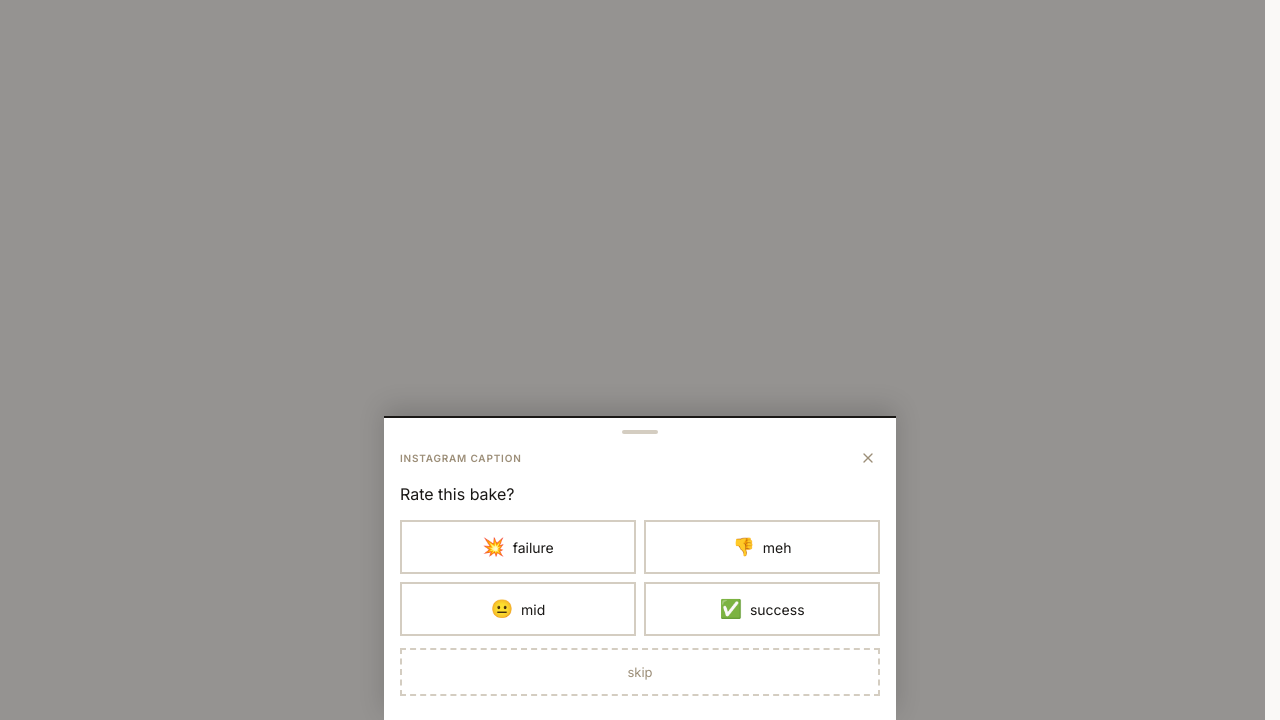
it: ShareBottomSheet › skip advances to preview without outcome
Click the button with test id "share-skip": [640, 672] box [400, 648, 880, 696]
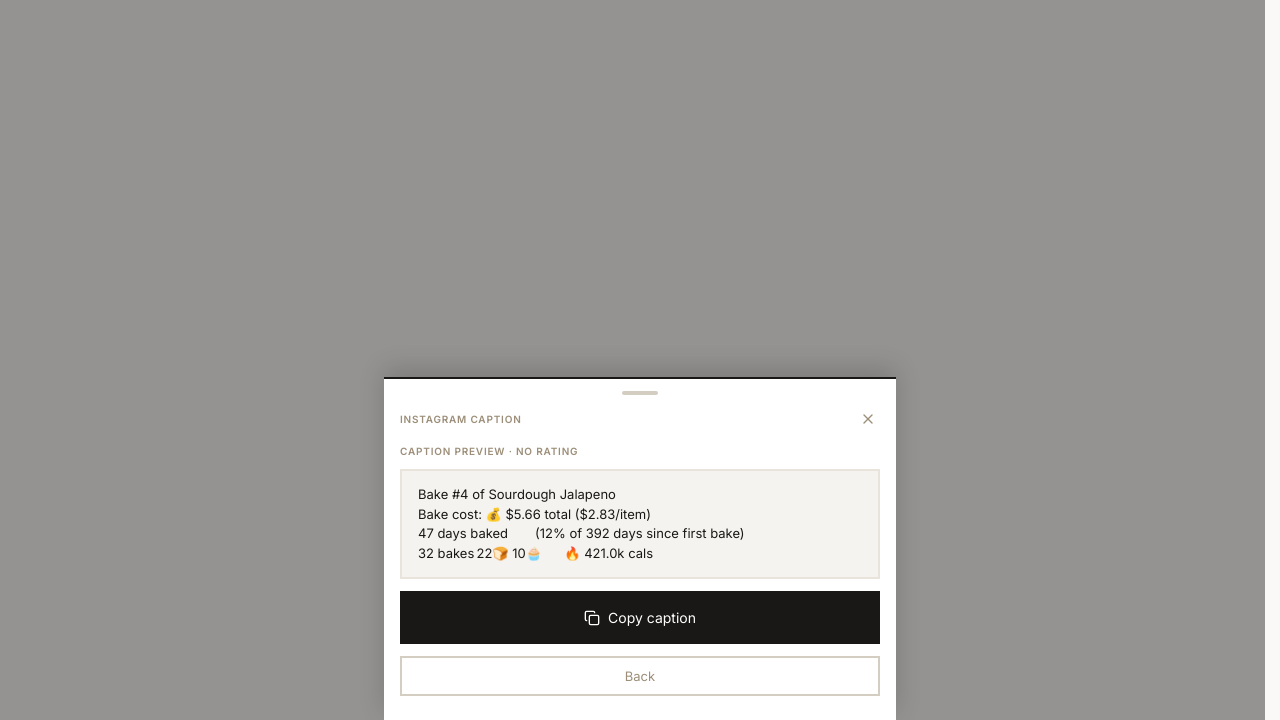
Now the text with test id "share-caption" shows "Bake #4 of Sourdough Jalapeno", box [418, 486, 745, 560]
Now the button with test id "share-caption" no longer shows "success"
